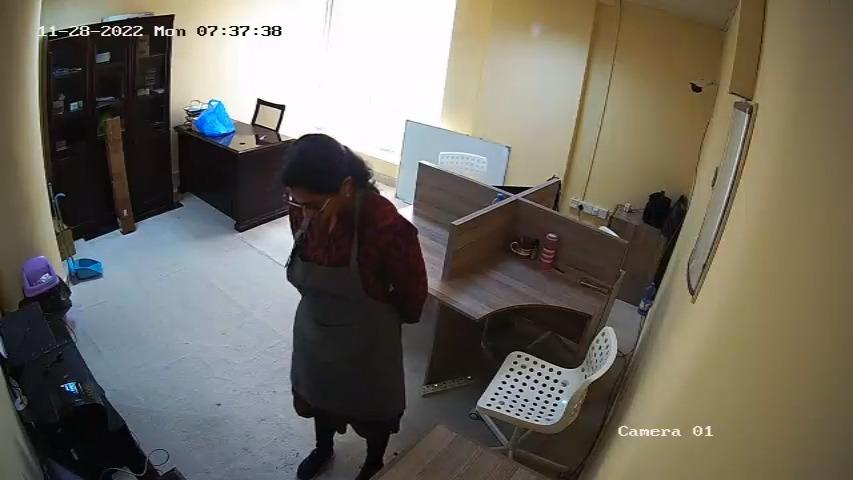apron: (284, 218, 402, 417)
